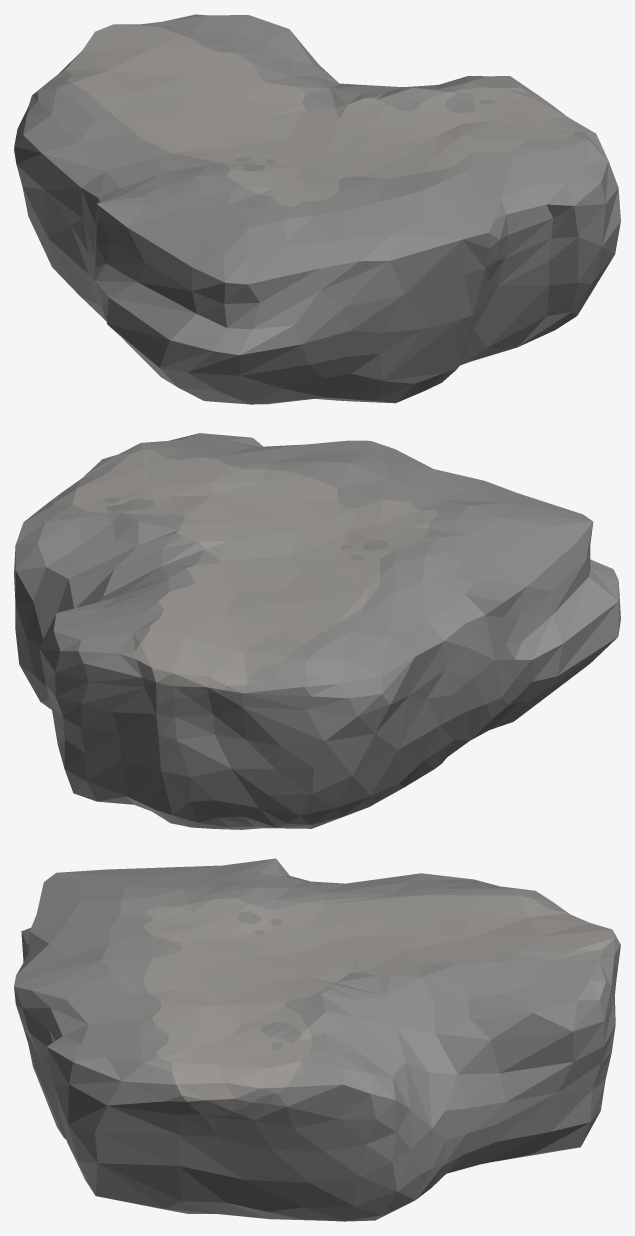
The model's file is Cavern_Floor_Narrow_Corner-01.fbx.
3 renders of one model, top to bottom at view 1: azimuth 30°, elevation 25°; view 2: azimuth 150°, elevation 25°; view 3: azimuth 270°, elevation 25°, orthographic.
Visible parts, largest first — view 1: Cavern_Floor_Narrow_Corner-01; view 2: Cavern_Floor_Narrow_Corner-01; view 3: Cavern_Floor_Narrow_Corner-01.
Boxes of the visible parts, <box> form: Cavern_Floor_Narrow_Corner-01: <box>14,14,620,404</box>; Cavern_Floor_Narrow_Corner-01: <box>14,433,620,829</box>; Cavern_Floor_Narrow_Corner-01: <box>14,858,620,1221</box>.
Bounding box in the file's own units: 1121 × 452 × 1212.
1 material, 1 textured.
